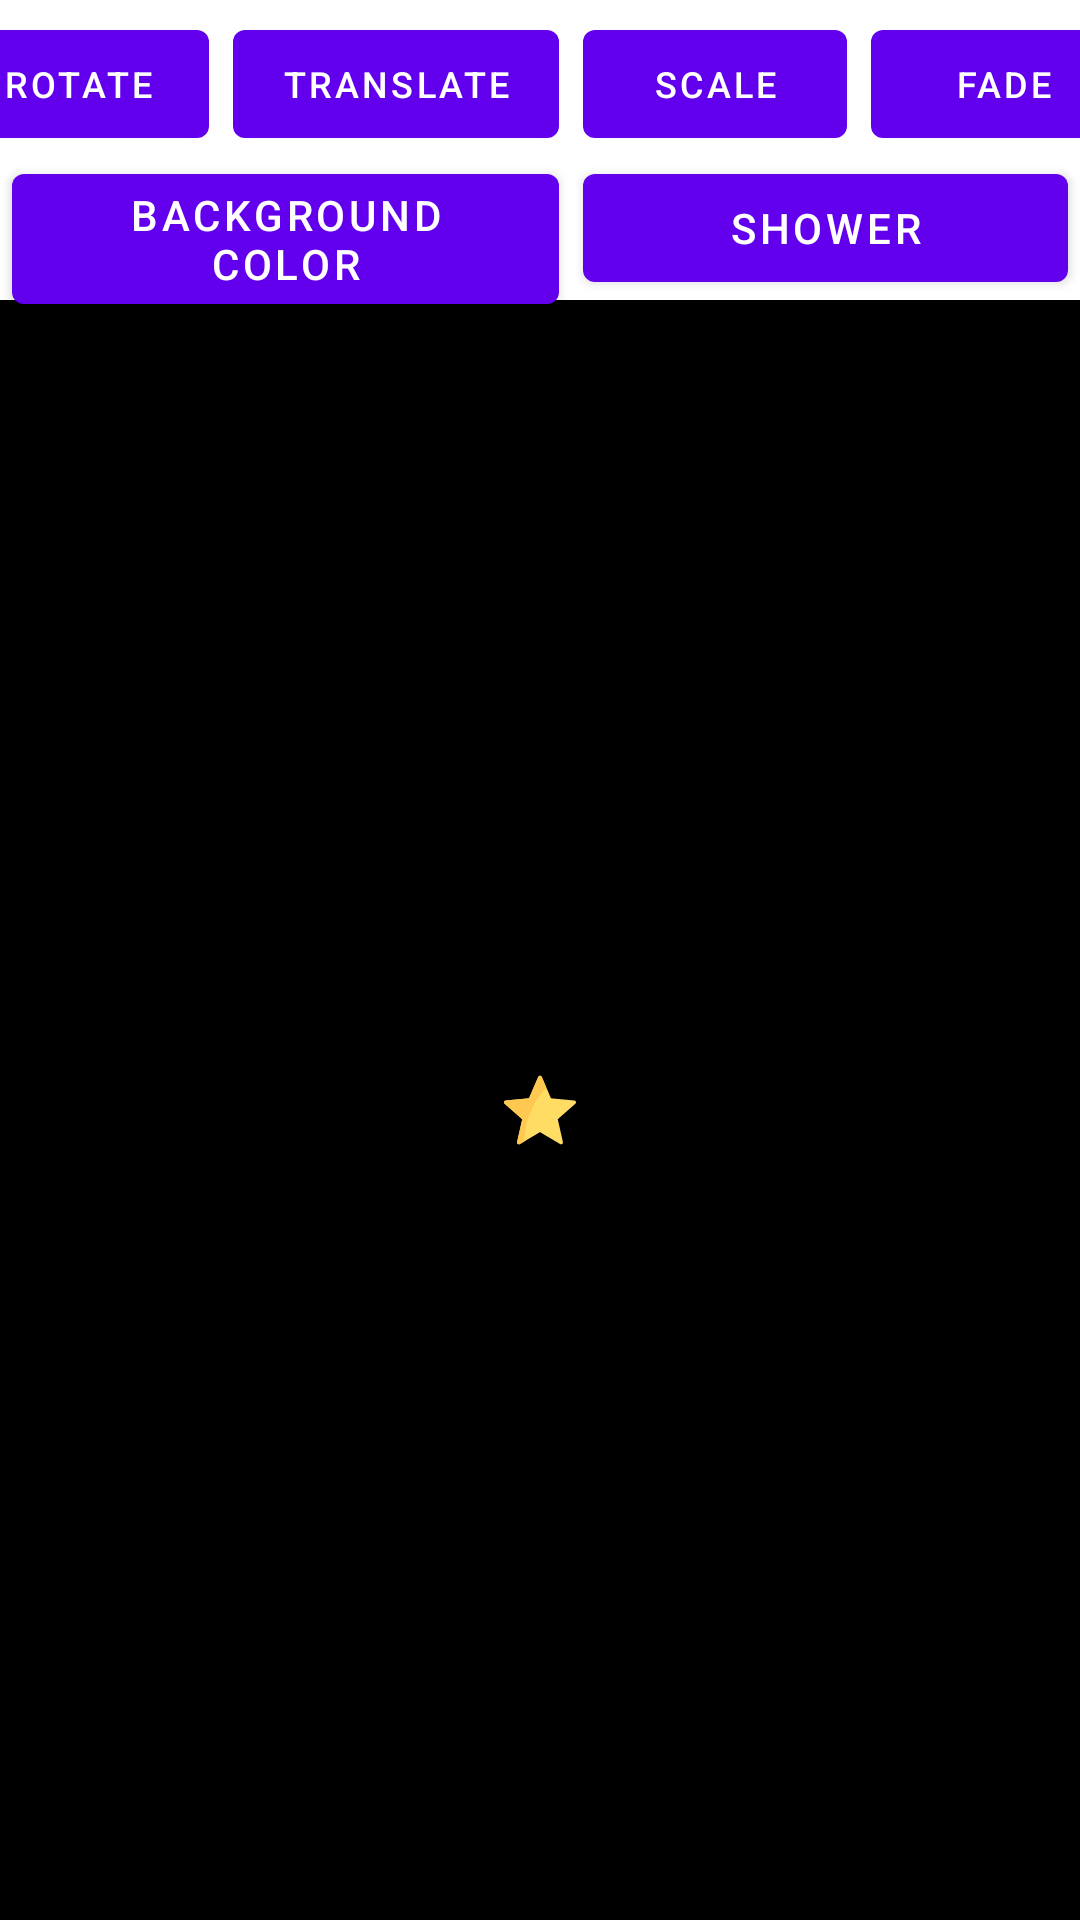

Icon bounding boxes for this 1080 × 1920 phone screenshot, format rect(x1, y1, x2, y2):
star: rect(504, 1075, 576, 1145)
